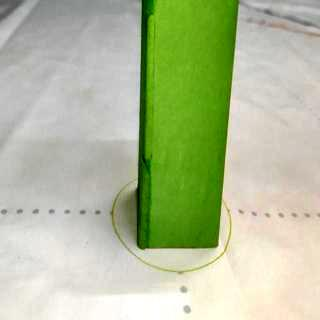greenbox: (138, 1, 238, 250)
